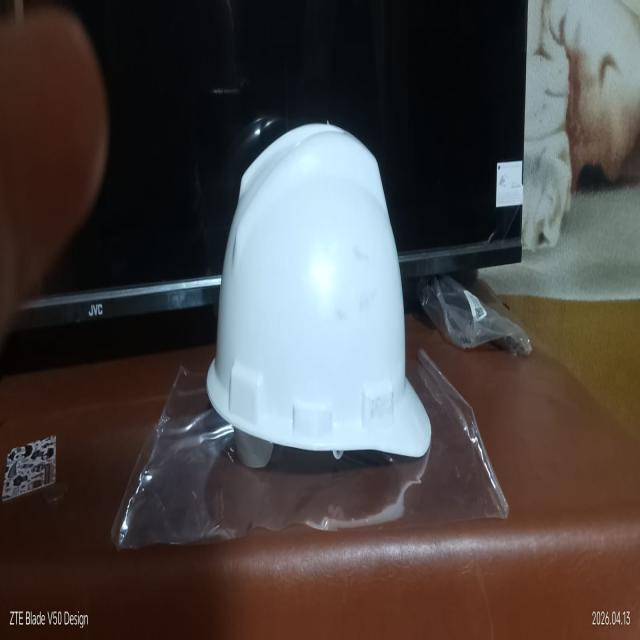casco: (201, 109, 441, 469)
